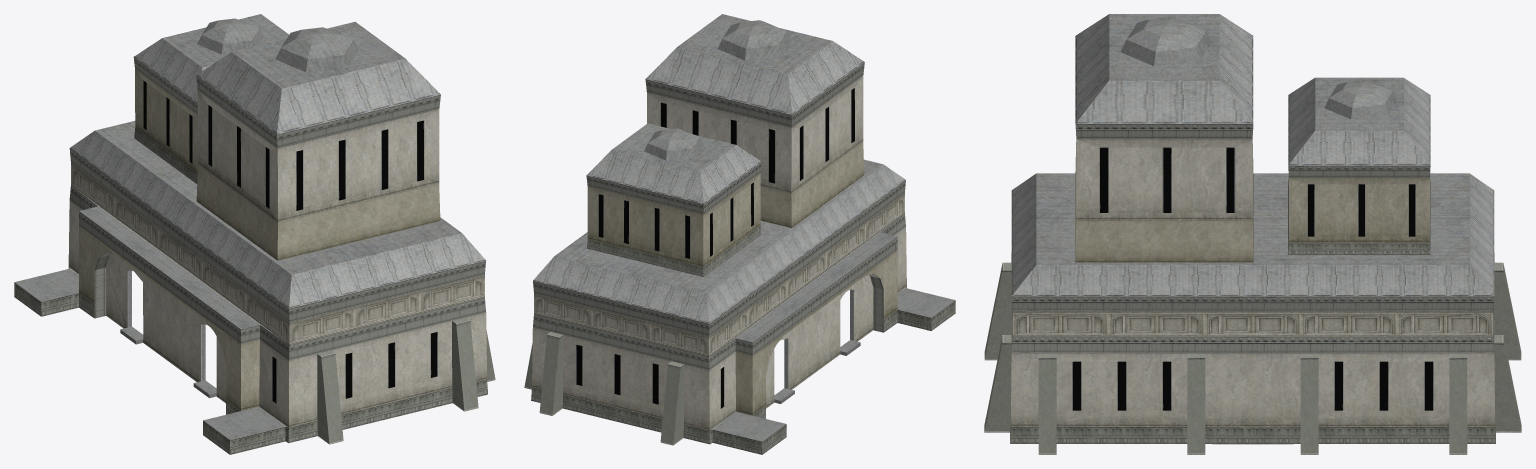
File: thm_corl_imprv_historic_24x16_s02_r0_mesh_l1.fbx
The picture shows the model from 3 angles, left to right: view 1: azimuth 30°, elevation 25°; view 2: azimuth 150°, elevation 25°; view 3: azimuth 270°, elevation 25°; orthographic projection. The views are drawn at different scales.
Parts seen in each view (by area): view 1: mesh_node; view 2: mesh_node; view 3: mesh_node.
Boxes of the visible parts, <box> form: mesh_node: <box>14,14,495,454</box>; mesh_node: <box>524,14,955,454</box>; mesh_node: <box>984,14,1521,454</box>.
Size of the model in its own units: 15.54 by 17.95 by 23.81.
